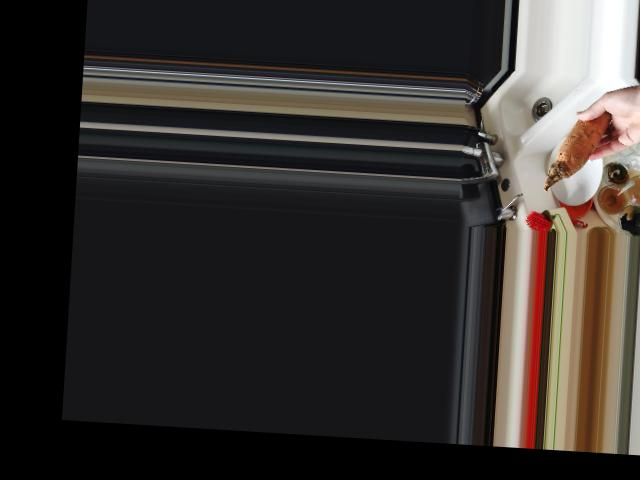sweet_potato: (543, 100, 617, 197)
